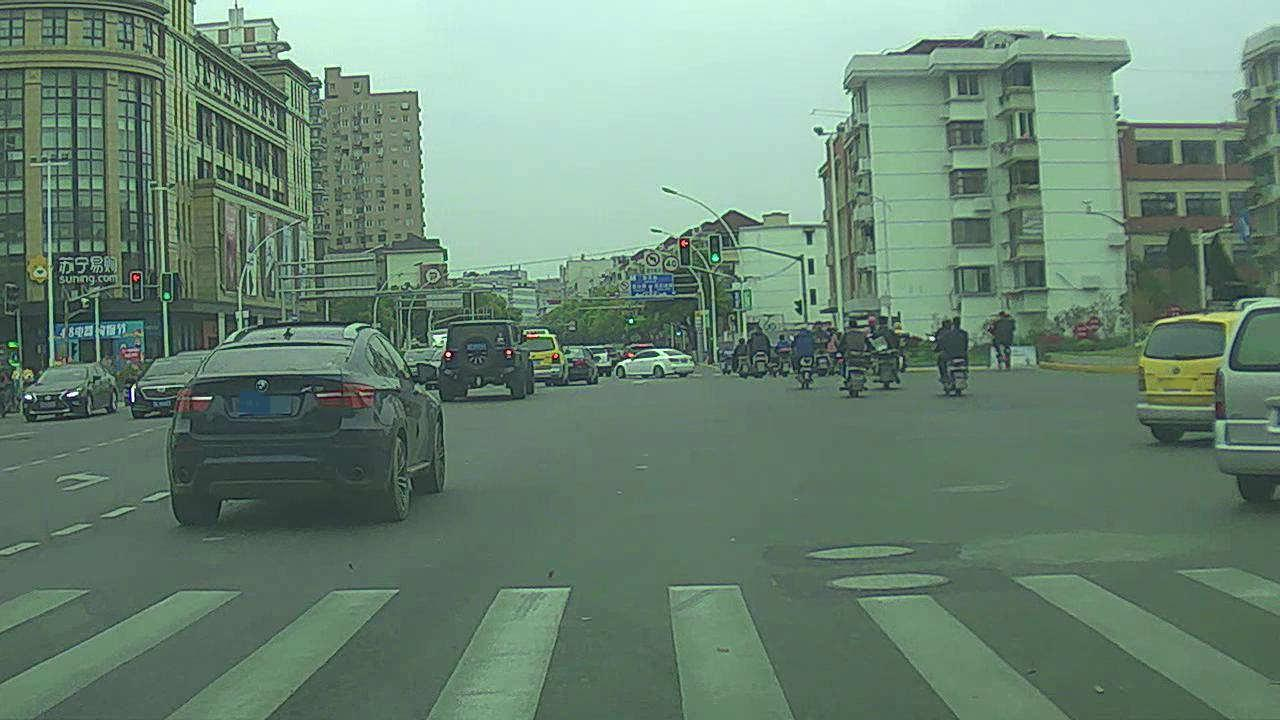traffic_light: (129, 271, 145, 301), (159, 272, 174, 300), (710, 231, 722, 263), (681, 237, 693, 265)
